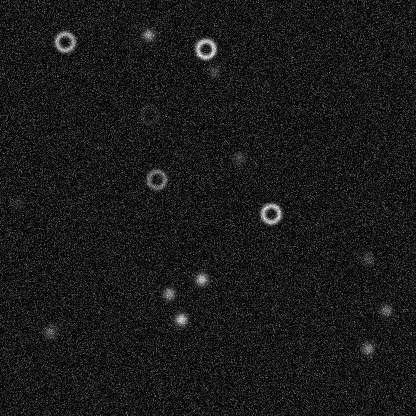Ring: (52, 29, 76, 53), (193, 36, 217, 60), (144, 167, 168, 191), (258, 201, 282, 225), (136, 102, 160, 126)
Spot: (9, 195, 25, 211), (230, 149, 246, 165), (160, 285, 176, 301), (172, 311, 188, 327), (193, 271, 209, 287), (359, 340, 375, 356), (377, 302, 393, 318), (140, 26, 156, 42), (359, 250, 375, 266), (205, 63, 221, 79), (41, 323, 57, 339)
